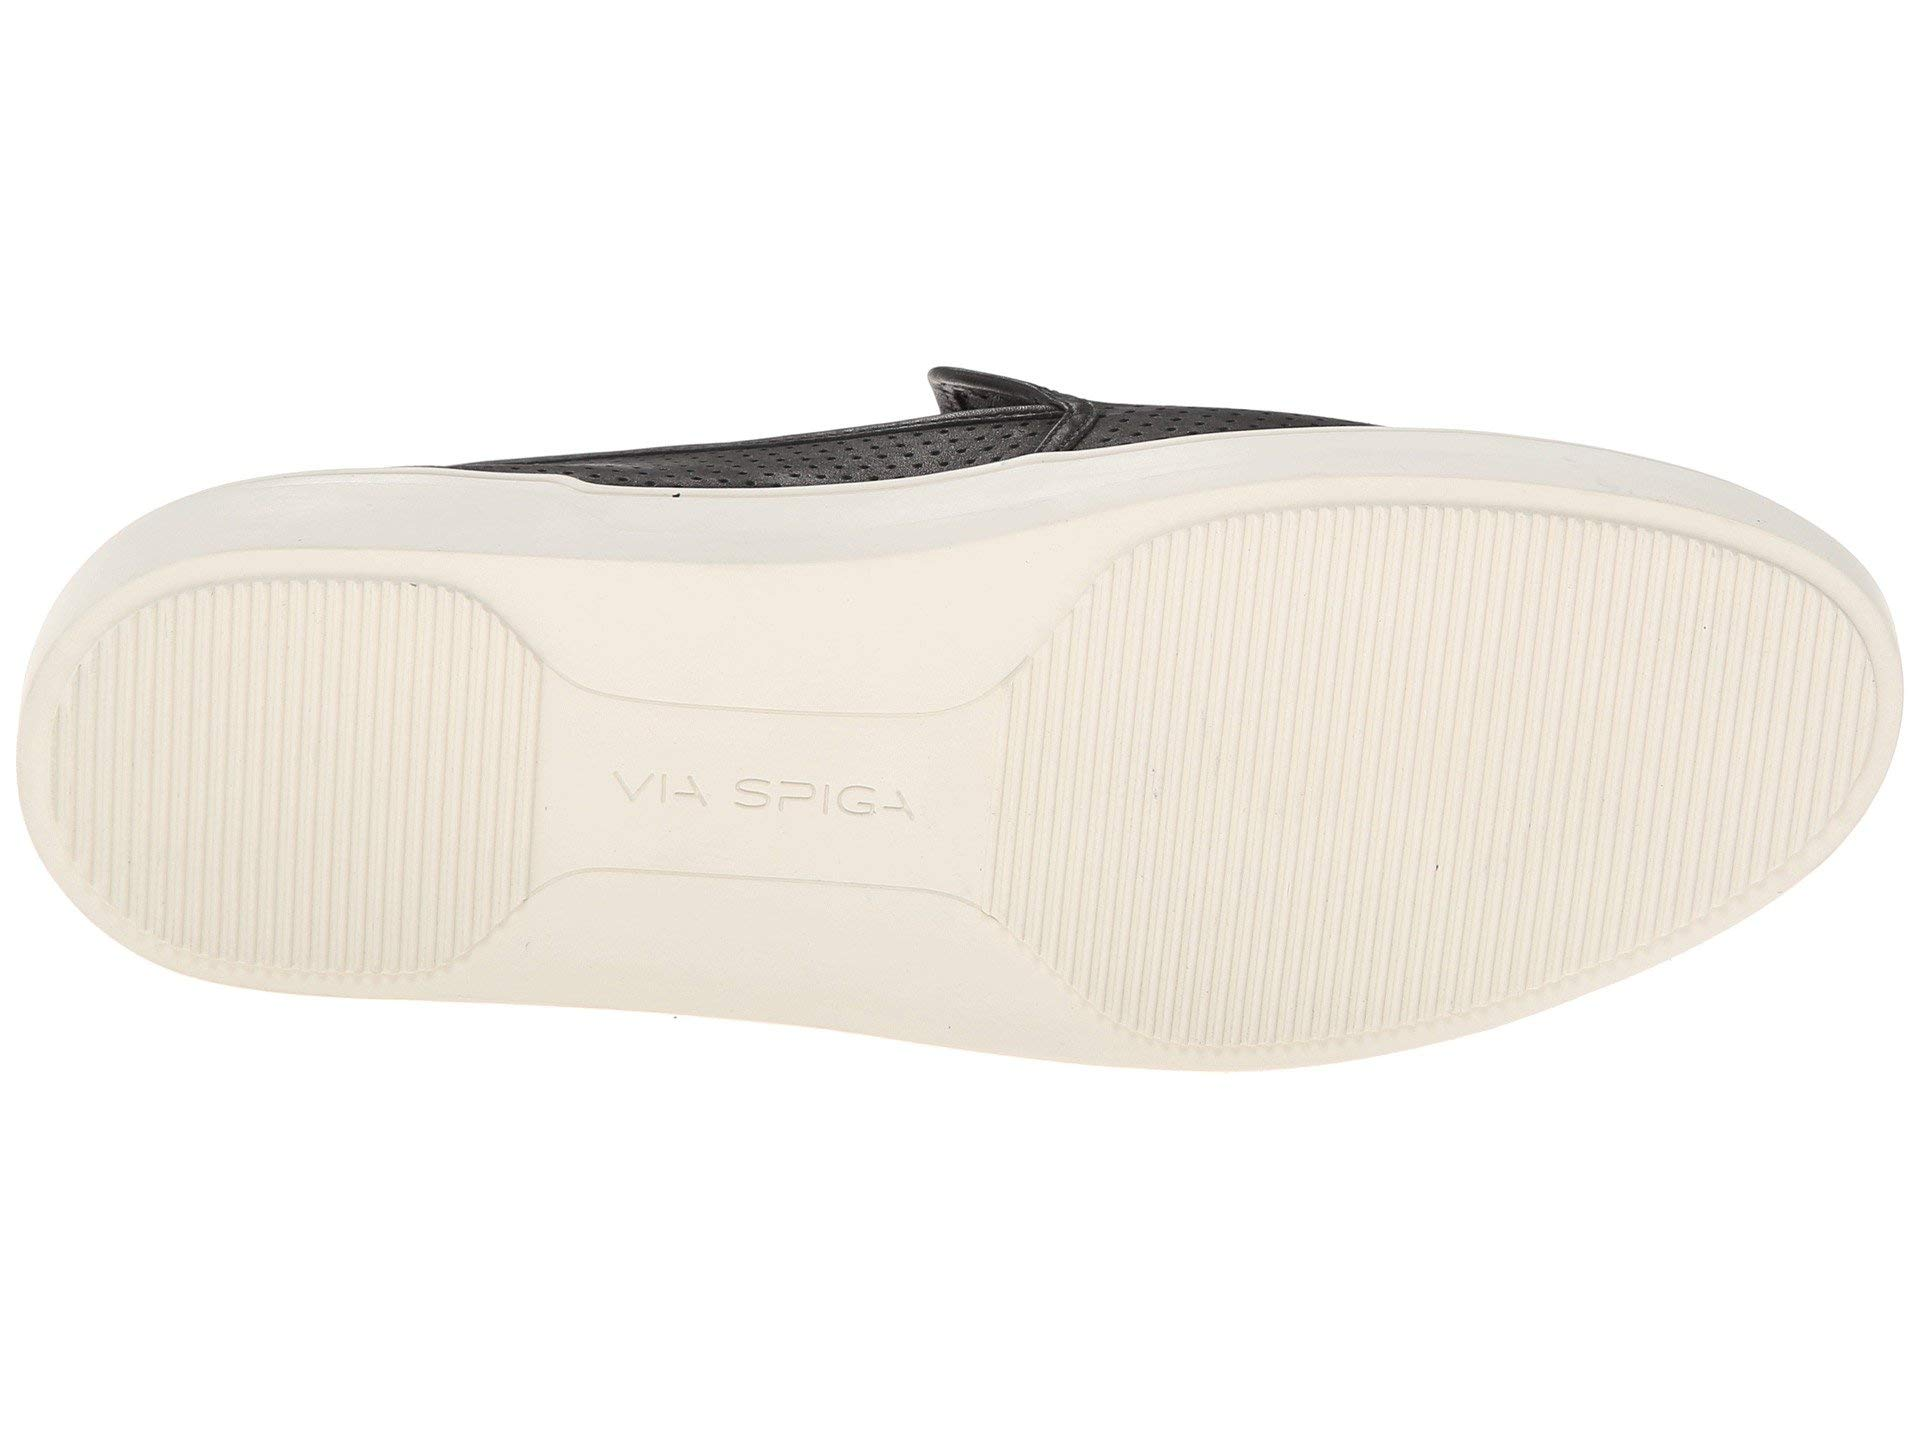line: (1154, 542, 1606, 986)
text: (587, 699, 946, 882)
